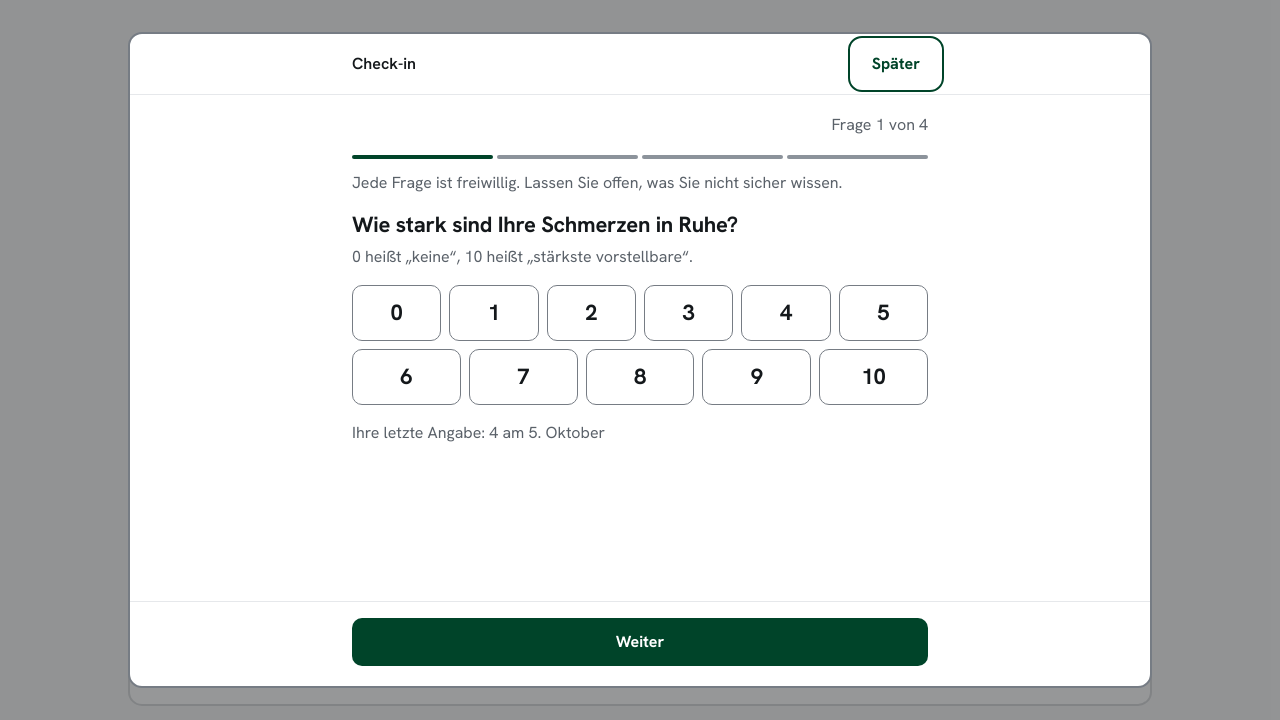
Check-in als geführter Ablauf (Handoff 5.1) › hat so viele Seiten wie Hauptfragen, Zusammenhang und Belastung; senden nur auf der letzten
Expected: the button "Angaben senden" is not shown
Click the 2nd button "Weiter" at (640, 642), box [352,618,928,666]
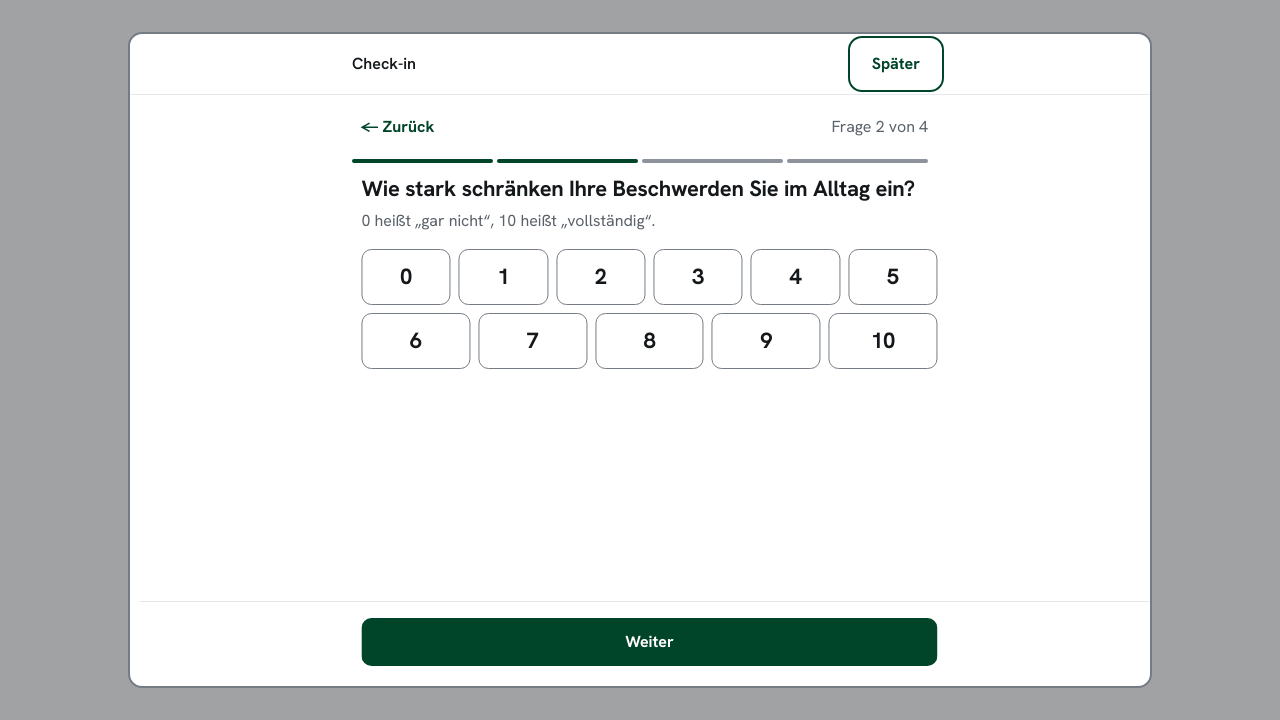
Expected: the button "Angaben senden" is not shown
Click the button "Weiter" at (646, 642), box [358,618,934,666]
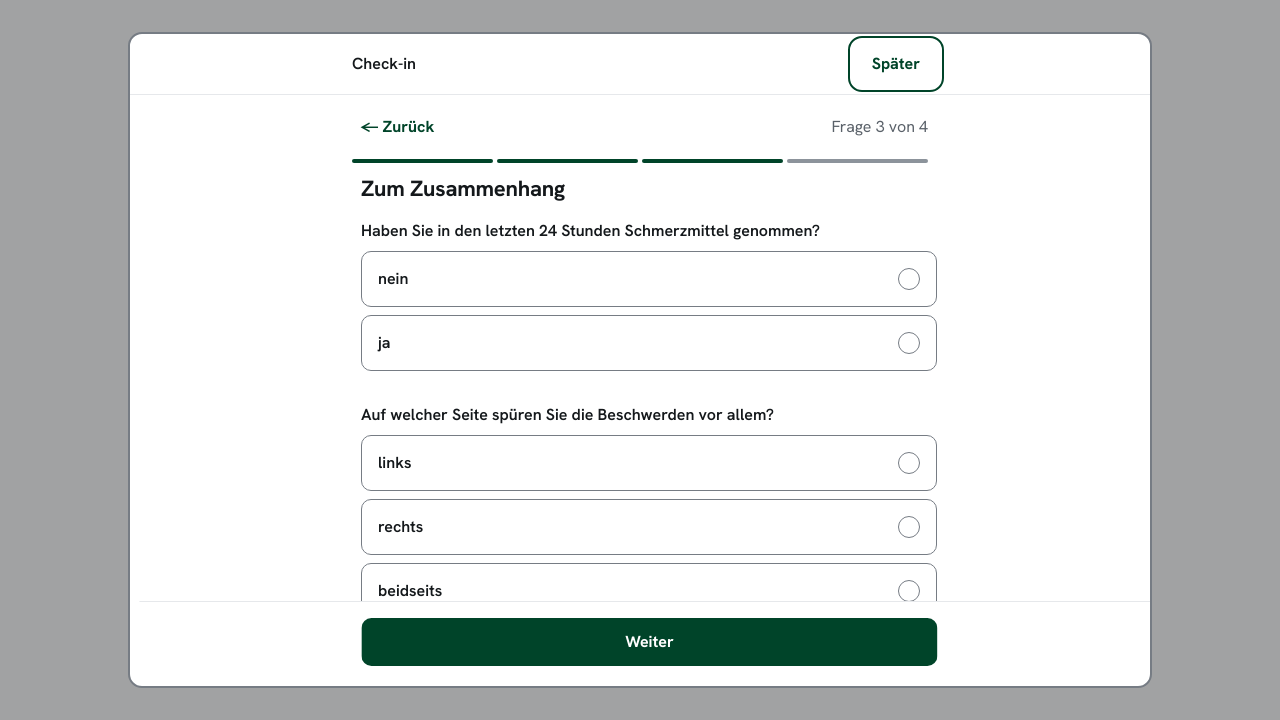
Expected: the button "Angaben senden" is not shown
Click the button "Weiter" at (642, 642), box [354,618,930,666]
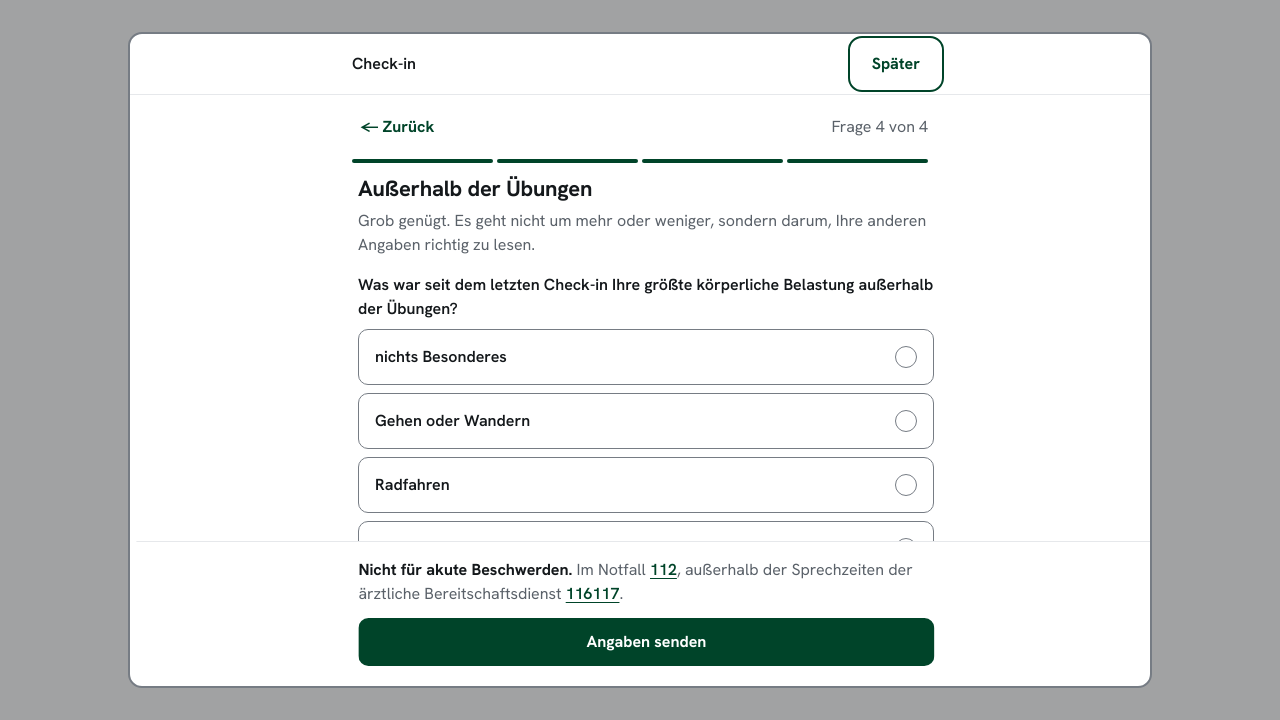
Result: the button "Angaben senden" is shown at [353,618,929,666]
Result: the button "Weiter" is gone
Click the button "← Zurück" at (397, 127), box [340,103,454,151]
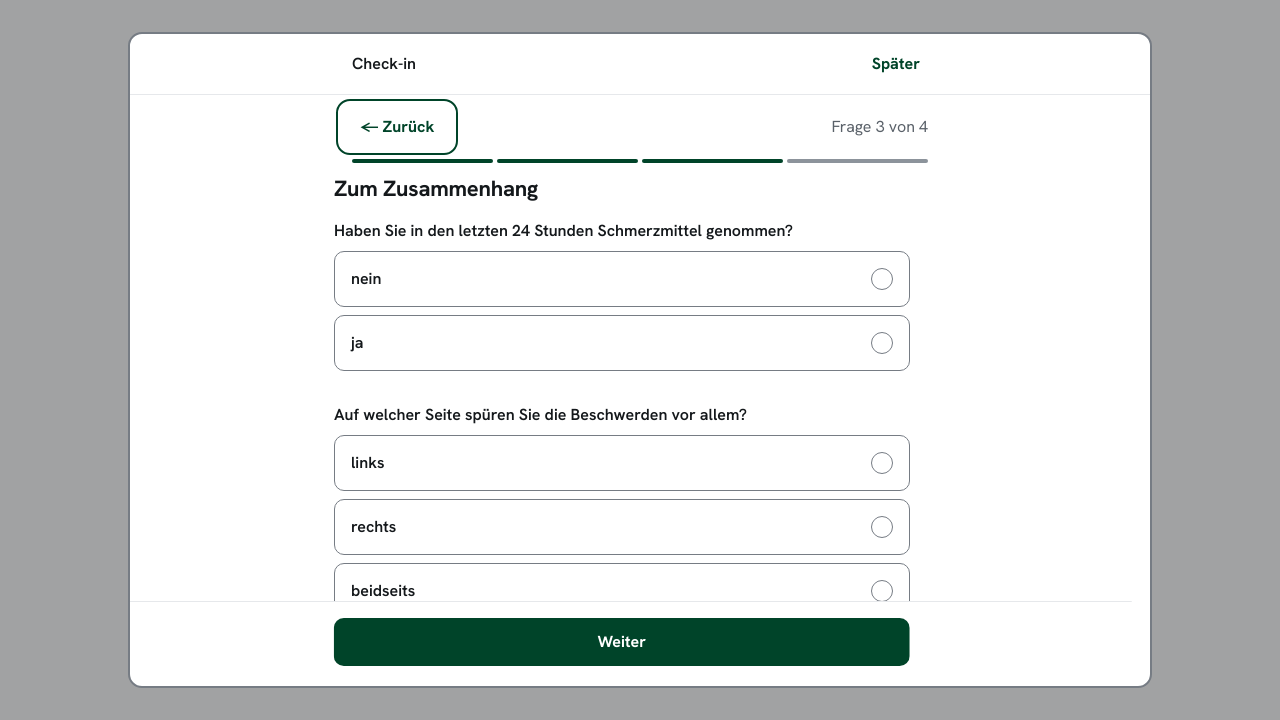
Result: the dialog "Zum Zusammenhang" is shown
